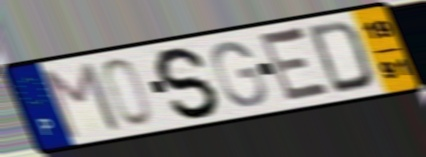0: (98, 55, 159, 130)
D: (305, 18, 377, 97)
E: (256, 24, 337, 106)
G: (209, 39, 269, 109)
M: (39, 59, 124, 141)
S: (153, 45, 222, 120)
